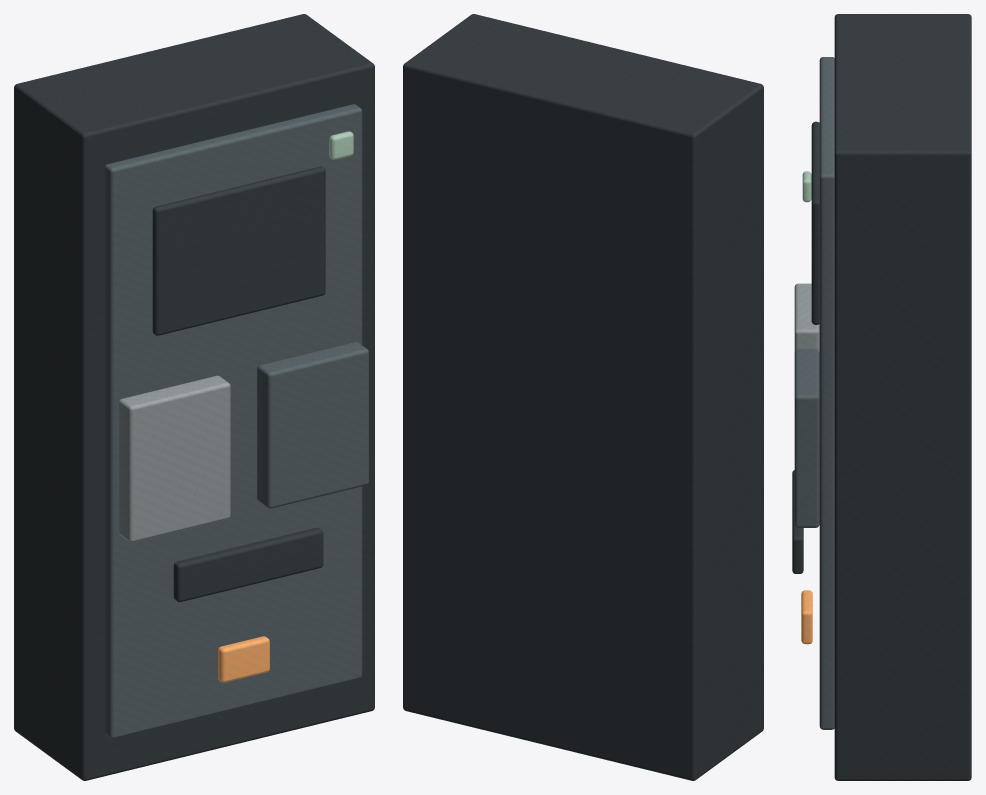
Rendered from WallPPEDispenser.glb.
The picture shows the model from 3 angles, left to right: view 1: azimuth 30°, elevation 25°; view 2: azimuth 150°, elevation 25°; view 3: azimuth 270°, elevation 25°; orthographic projection. The views are drawn at different scales.
Parts seen in each view (by area): view 1: WallPPEDispenser_Mesh; view 2: WallPPEDispenser_Mesh; view 3: WallPPEDispenser_Mesh.
Boxes of the visible parts, x1,y1,x2,y2 form: WallPPEDispenser_Mesh: (14,14,374,780); WallPPEDispenser_Mesh: (403,14,763,780); WallPPEDispenser_Mesh: (792,14,971,780).
Bounding box in the file's own units: 0.72 × 1.52 × 0.3925.
5 materials, 5 textured.
